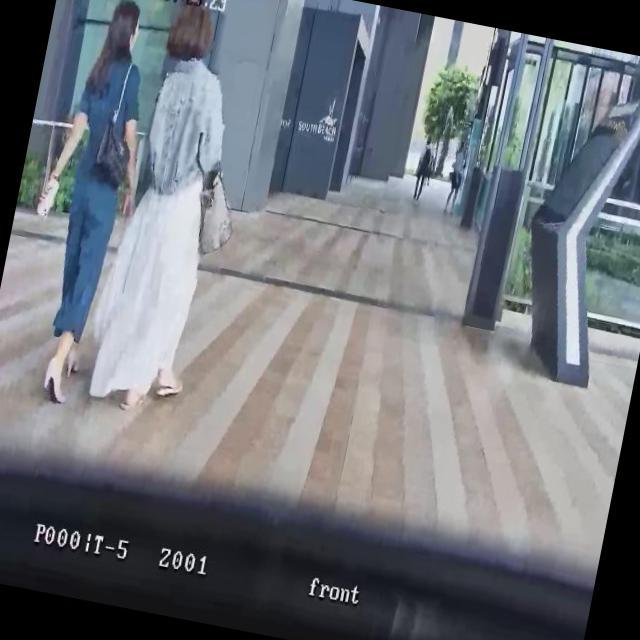person: (80, 0, 259, 423), (1, 0, 169, 412), (443, 136, 471, 217), (410, 138, 437, 203)
